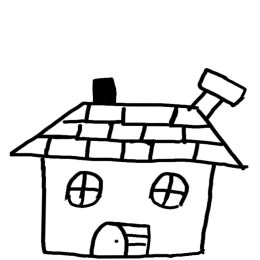bottom_placed_house: (1, 0, 260, 260)
chimney: (189, 51, 251, 124), (83, 59, 127, 115)
closed_window: (148, 166, 193, 217), (60, 166, 107, 209)
door: (81, 218, 156, 260)
roof: (6, 98, 253, 170)
wall: (34, 138, 216, 260)
